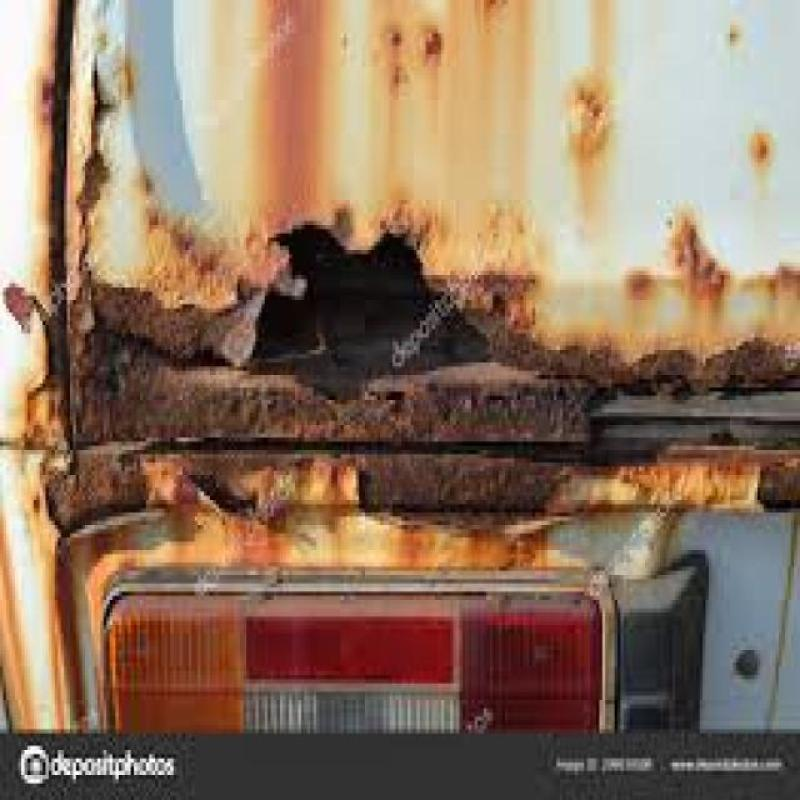Fracture: (162, 170, 540, 460)
